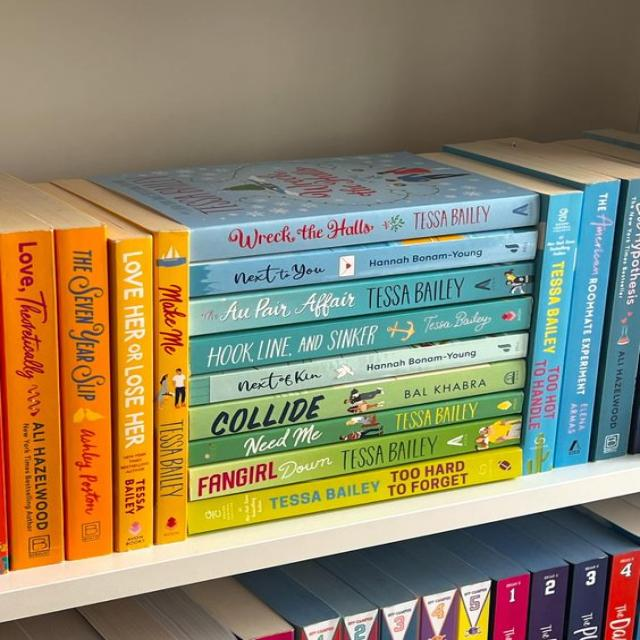book: (189, 447, 520, 535), (191, 360, 524, 439), (191, 261, 534, 336), (191, 300, 530, 374), (191, 393, 521, 466), (190, 195, 538, 262), (192, 334, 527, 403), (191, 231, 537, 297), (0, 231, 64, 568), (56, 227, 112, 559), (555, 181, 618, 466), (521, 192, 583, 474), (590, 180, 639, 459), (109, 235, 152, 551), (153, 231, 188, 544)
